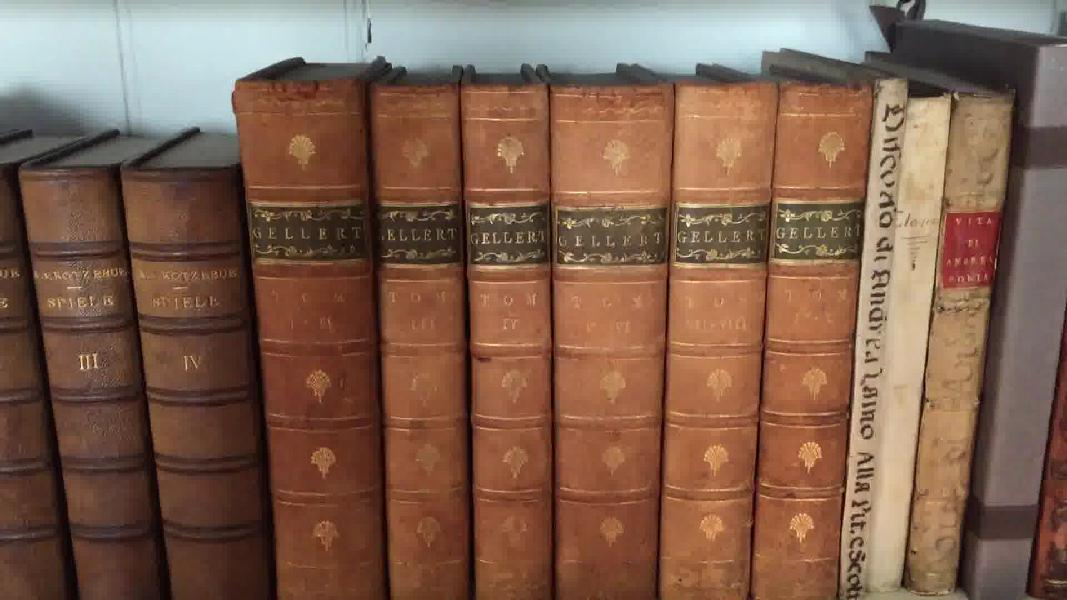Aa6-18_23: (221, 66, 864, 600)
Aa6-24: (836, 35, 903, 600)
Aa6-25: (866, 71, 949, 600)
Aa6-26: (915, 58, 1030, 600)
Aa6-27: (969, 43, 1067, 598)
